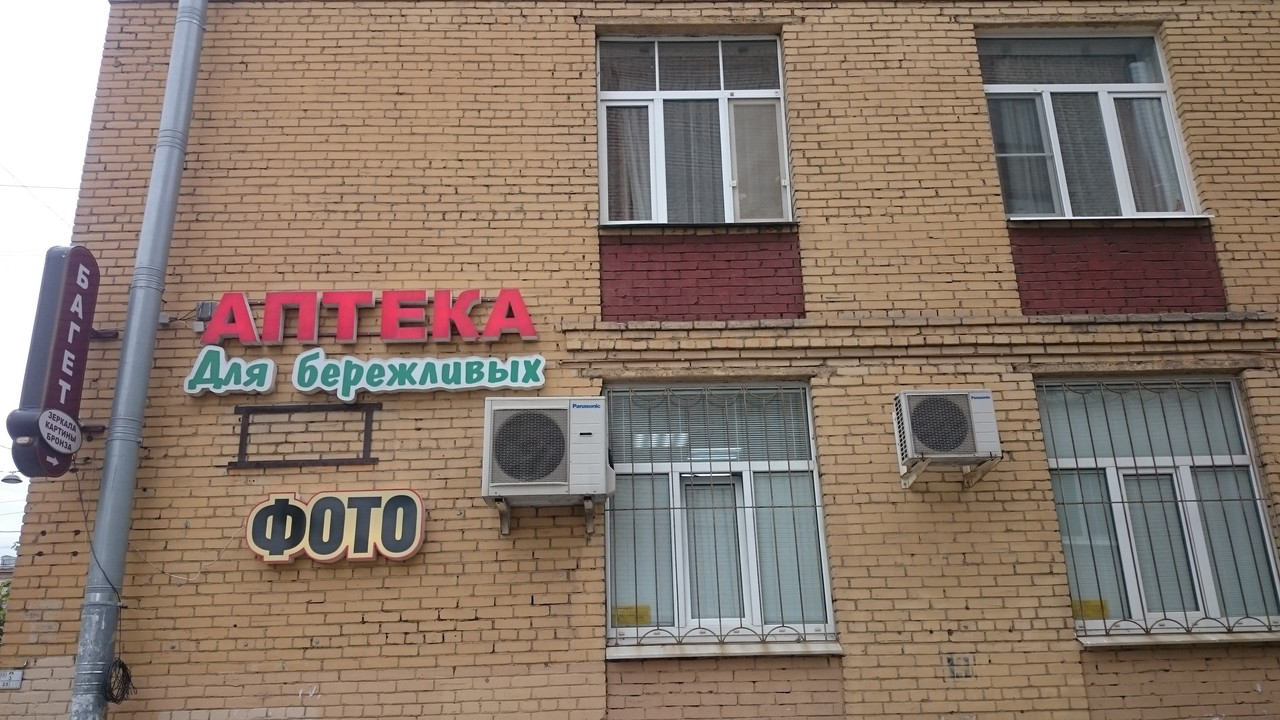cantilever: (7, 239, 123, 484)
signboard: (173, 282, 549, 392), (237, 483, 442, 564)
window: (1037, 372, 1278, 633), (607, 379, 832, 643), (977, 23, 1192, 215), (597, 26, 795, 226)
